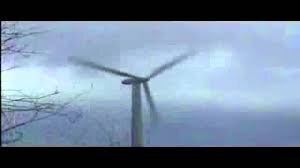faulty: (120, 68, 164, 120)
